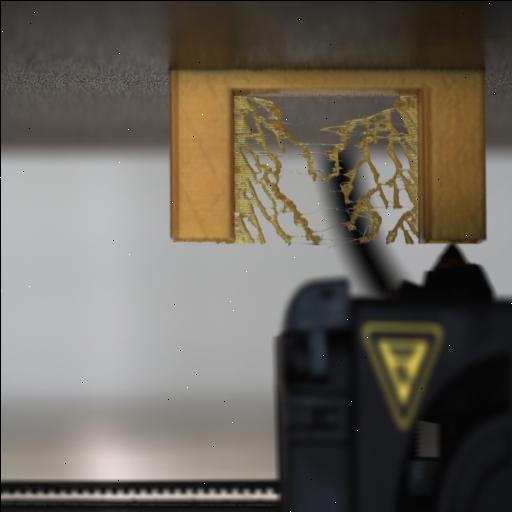stringing: (233, 94, 420, 244)
